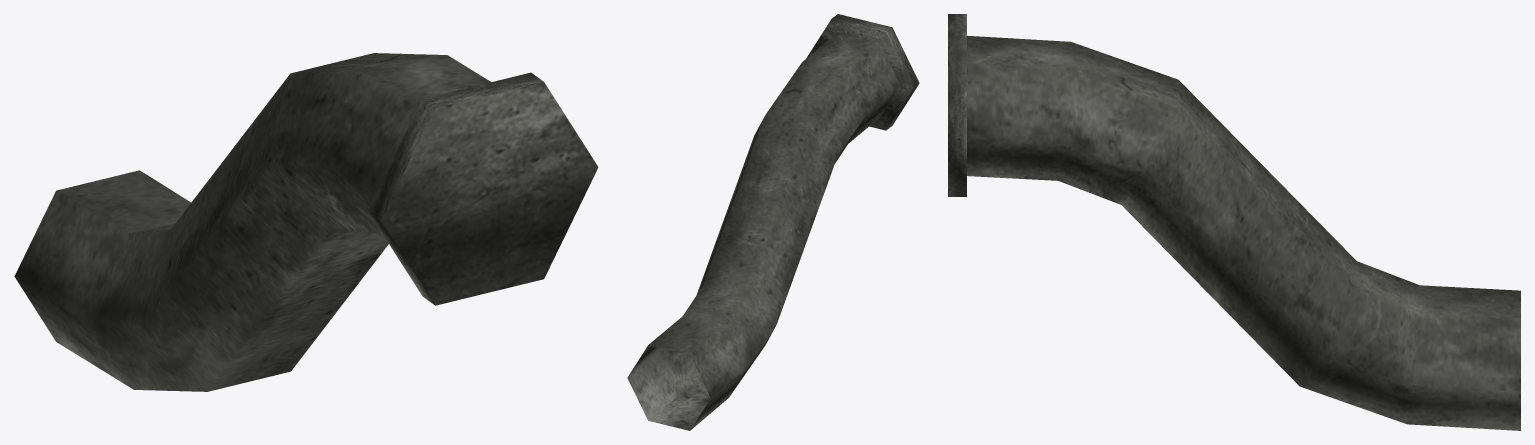
The model's file is large_metal_limp.fbx.
3 renders of one model, left to right at view 1: azimuth 30°, elevation 25°; view 2: azimuth 150°, elevation 25°; view 3: azimuth 270°, elevation 25°, orthographic. The views are drawn at different scales.
Visible parts, largest first — view 1: polySurface529; view 2: polySurface529; view 3: polySurface529.
Boxes of the visible parts, x1,y1,x2,y2 form: polySurface529: [14, 53, 598, 391]; polySurface529: [627, 14, 919, 430]; polySurface529: [948, 14, 1520, 430].
Size of the model in its own units: 1.3 by 3 by 4.07.
